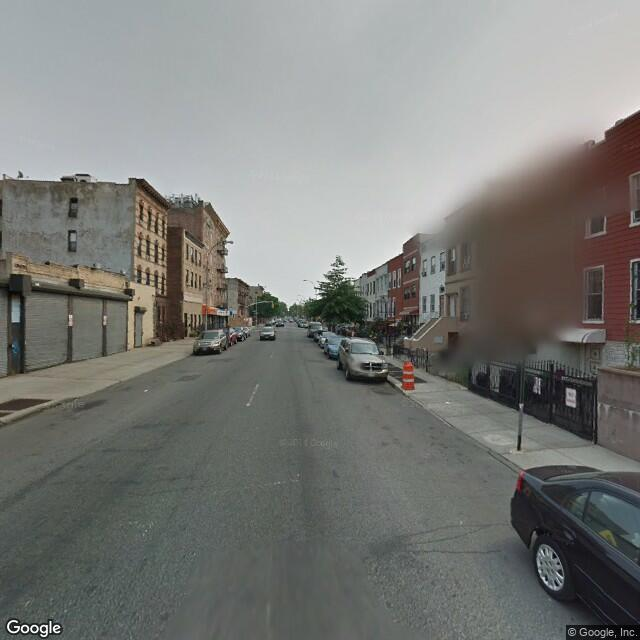litter: (445, 400, 451, 404), (459, 519, 464, 523), (143, 390, 152, 392)
